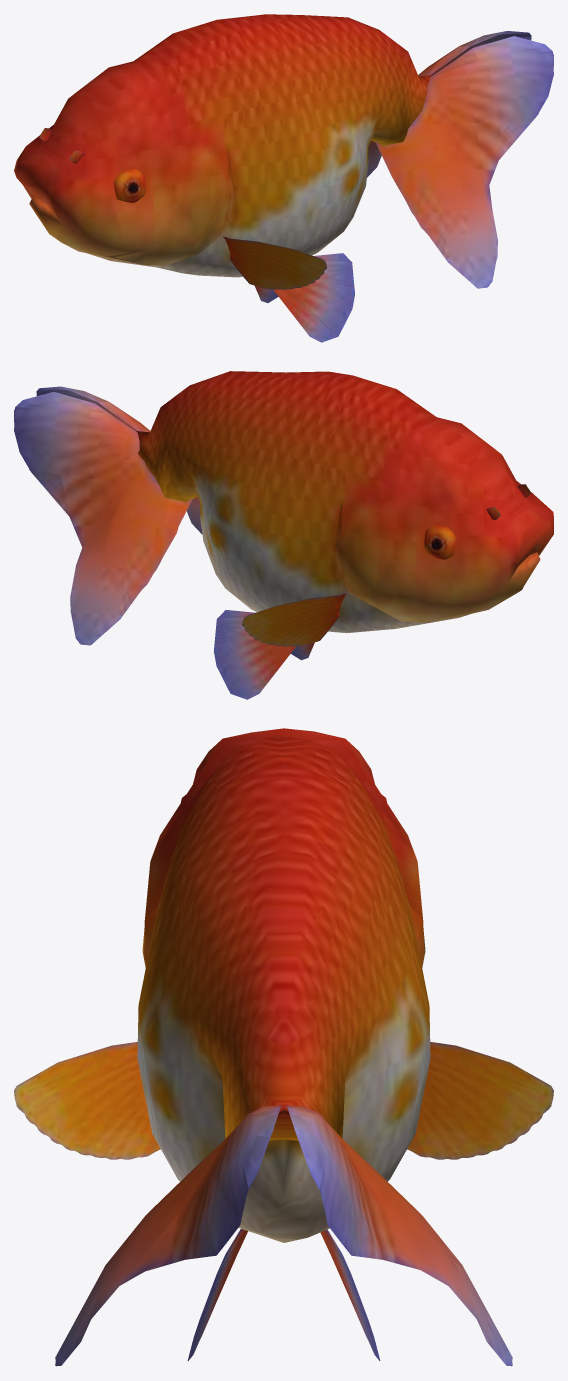
Rendered from google poly.gltf.
3 renders of one model, top to bottom at view 1: azimuth 30°, elevation 25°; view 2: azimuth 150°, elevation 25°; view 3: azimuth 270°, elevation 25°, orthographic. The views are drawn at different scales.
Parts seen in each view (by area): view 1: node-0; view 2: node-0; view 3: node-0.
Boxes of the visible parts, x1=… form: node-0: x1=14, y1=14, x2=553, y2=342; node-0: x1=14, y1=371, x2=553, y2=699; node-0: x1=14, y1=728, x2=553, y2=1366.
Bounding box in the file's own units: 398 × 236 × 217.
Materials: 1 (1 with a texture image).
